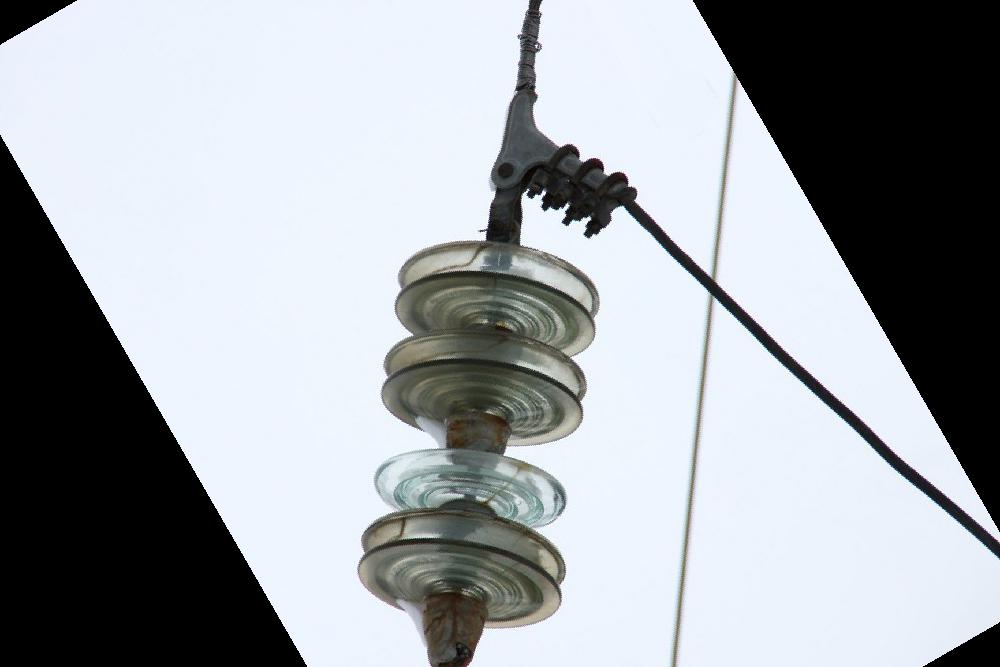insulator: (351, 235, 611, 634)
insulator_stringdrop: (365, 324, 591, 537)
